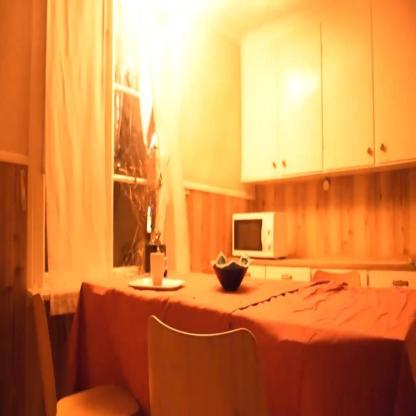fire: (117, 2, 223, 145), (148, 203, 152, 215)
